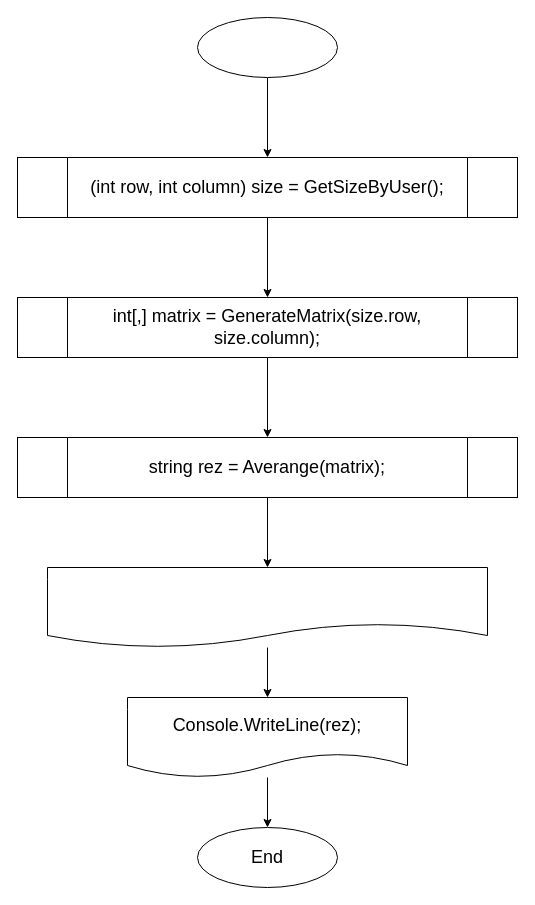
The diagram is 535 pixels wide and 905 high, and some of its shapes have lost their labels. The shapes that lost their labels are listed below. From the top down, each one's centre as x and y in pixels, then its label:
(267,47): Start
(267,607): Console.WriteLine("Cреднее арифметическое каждого столбца: ");
